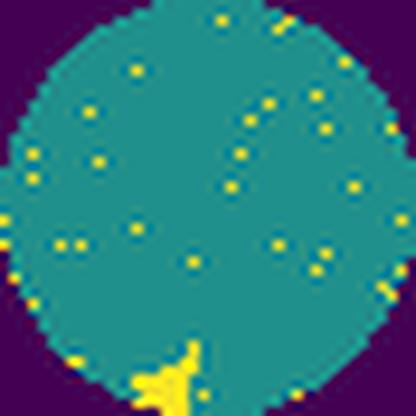Loc: (132, 332, 202, 416)
